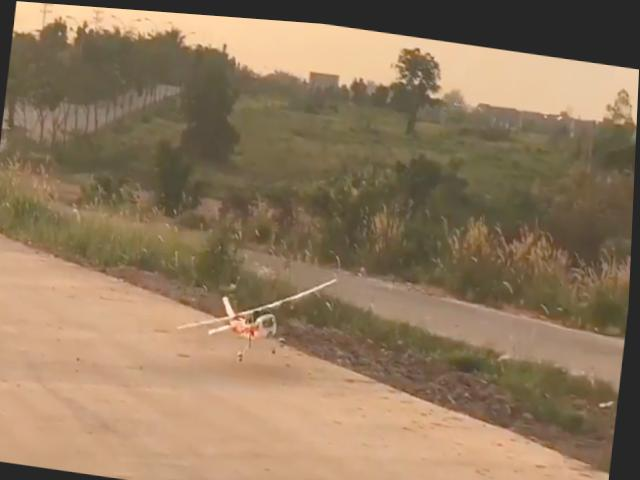plane: (179, 256, 340, 363)
